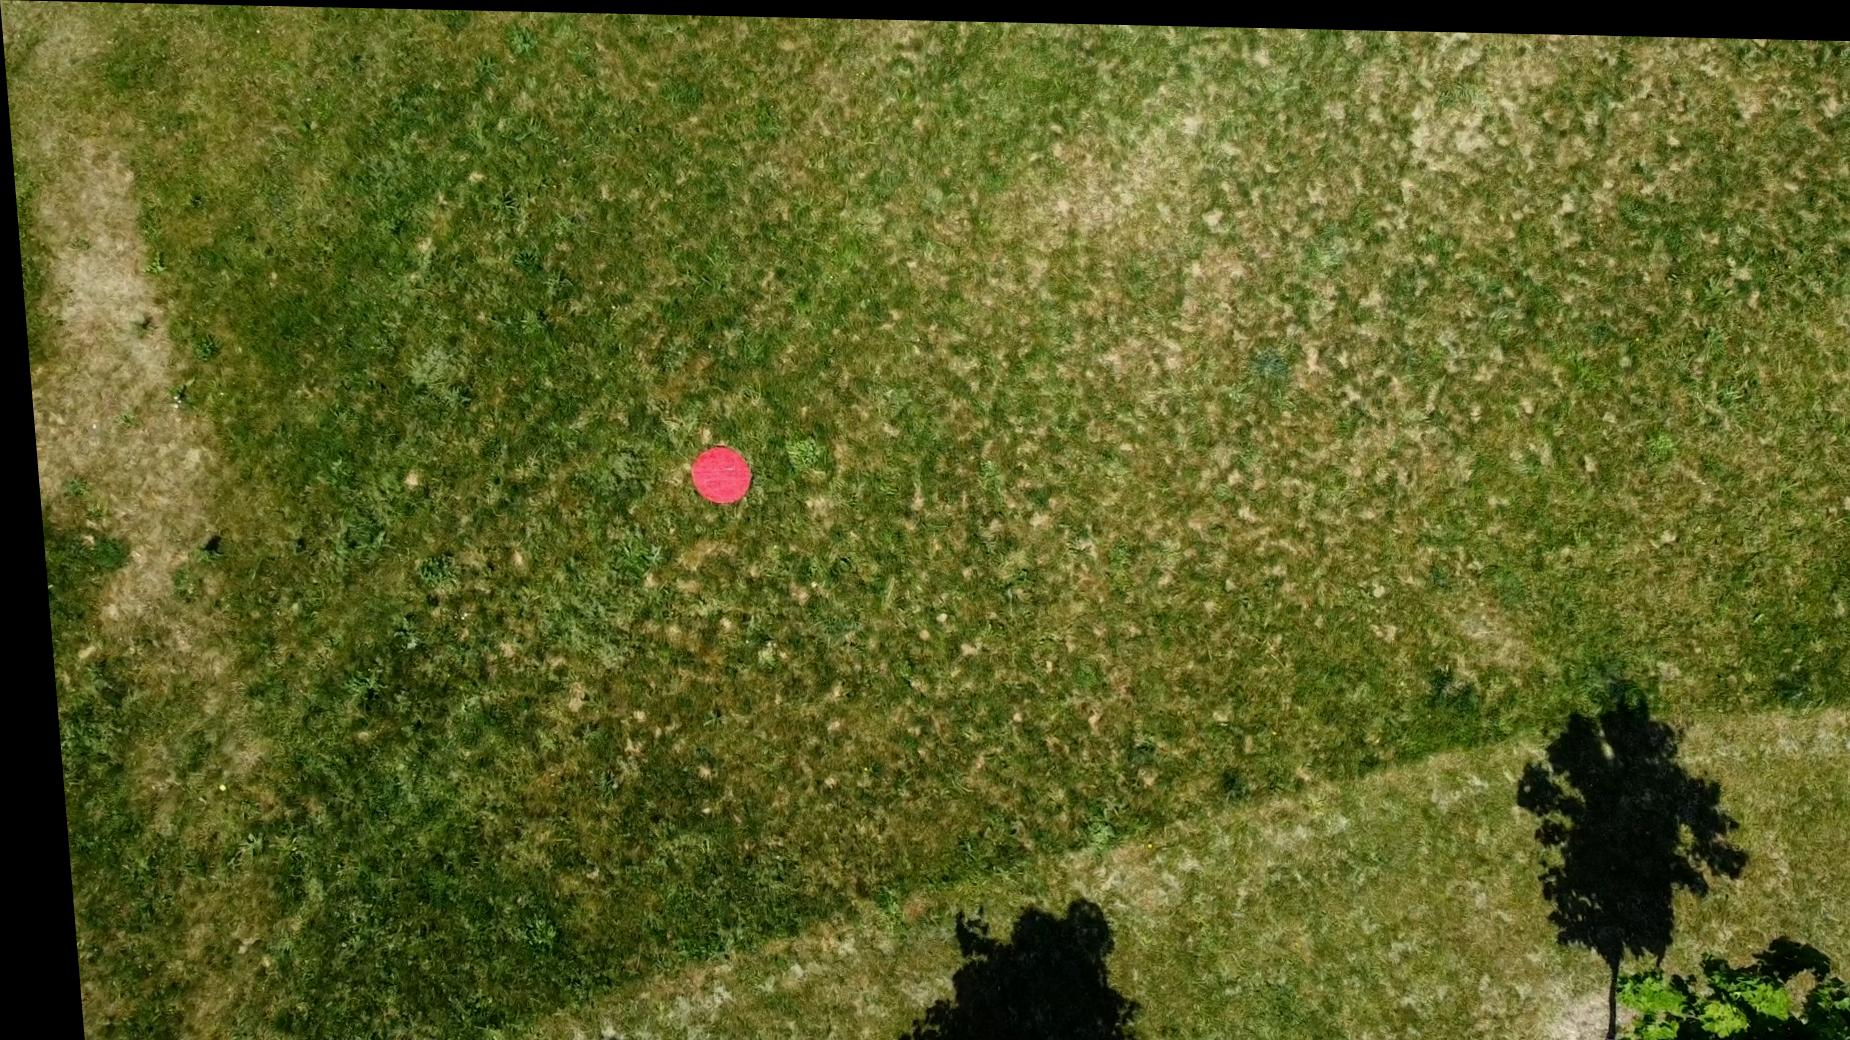Red: (679, 443, 750, 503)
